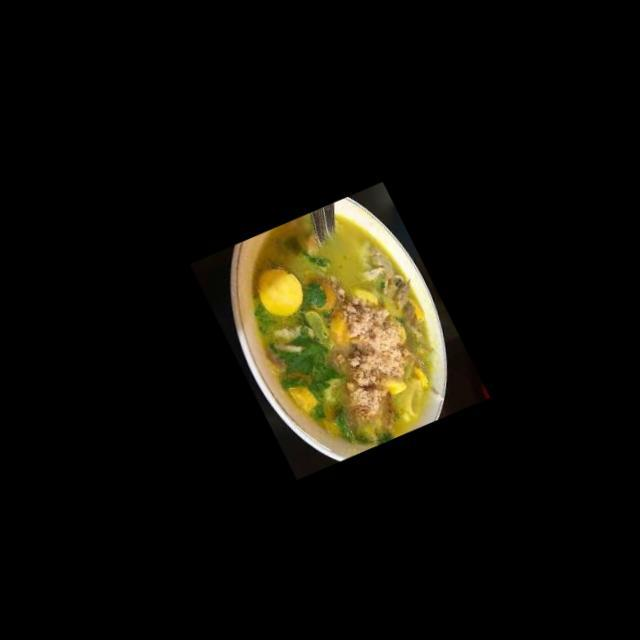Soto: (237, 202, 446, 457)
